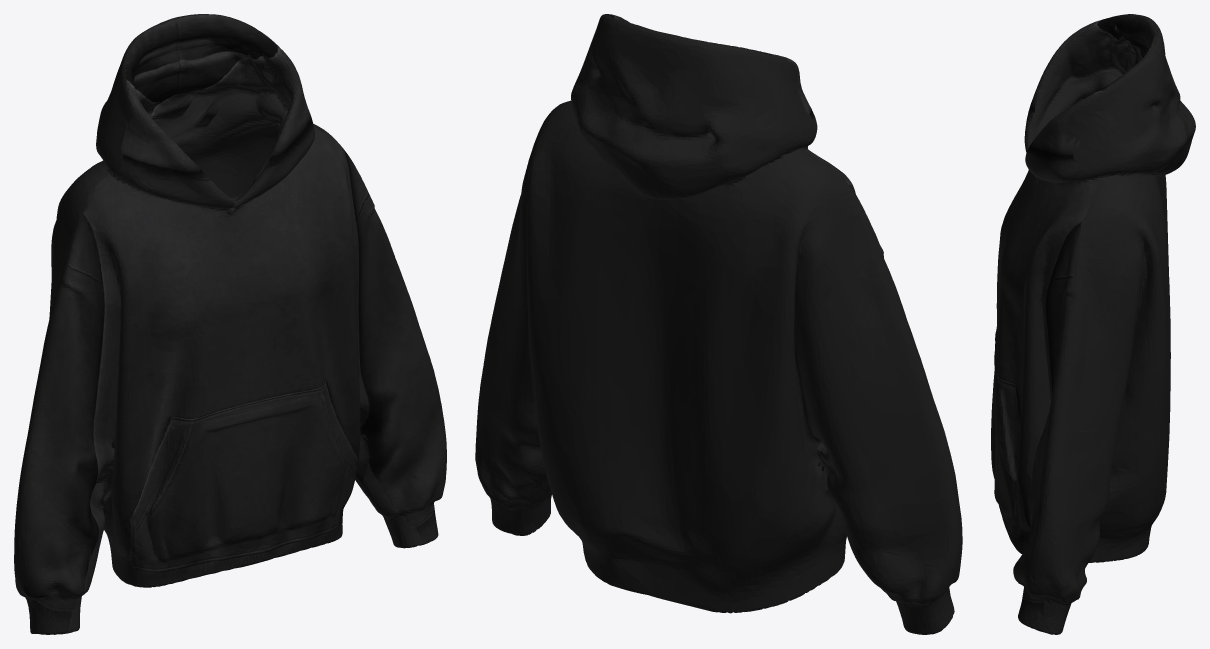
Rendered from noir-oversize-hudi-qora.glb.
The picture shows the model from 3 angles, left to right: view 1: azimuth 30°, elevation 25°; view 2: azimuth 150°, elevation 25°; view 3: azimuth 270°, elevation 25°; orthographic projection. The views are drawn at different scales.
Parts seen in each view (by area): view 1: world; view 2: world; view 3: world.
Boxes of the visible parts, x1,y1,x2,y2 form: world: [14, 14, 446, 634]; world: [475, 14, 962, 634]; world: [991, 14, 1195, 634].
Bounding box in the file's own units: 1.64 × 1.96 × 0.7058.
Materials: 1 (1 with a texture image).
